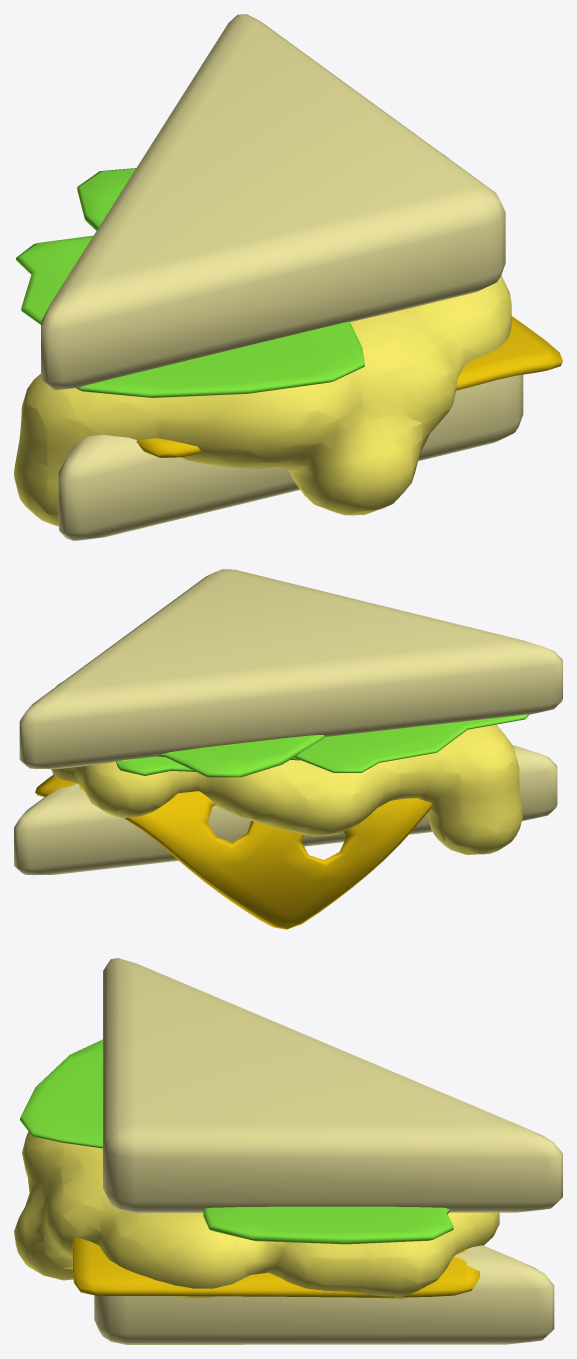
The model's file is Chanwis.fbx.
3 views of the same model, one above another, from view 1: azimuth 30°, elevation 25°; view 2: azimuth 150°, elevation 25°; view 3: azimuth 270°, elevation 25° (orthographic). The views are drawn at different scales.
Parts seen in each view (by area): view 1: Cube, Mball.020, Cube.001, Plane.003, Plane, Plane.001; view 2: Cube, Mball.020, Plane, Cube.001, Plane.003, Plane.001, Plane.002; view 3: Cube, Mball.020, Cube.001, Plane.001, Plane, Plane.003.
Boxes of the visible parts, x1,y1,x2,y2 form: Cube: (41,14,505,389); Mball.020: (14,275,511,526); Cube.001: (58,374,523,540); Plane.003: (16,235,364,397); Plane: (136,316,562,457); Plane.001: (77,154,446,230); Cube: (19,569,562,768); Mball.020: (51,724,522,854); Plane: (35,774,431,929); Cube.001: (14,745,557,875); Plane.003: (294,714,528,772); Plane.001: (56,682,325,777); Plane.002: (116,756,300,775); Cube: (103,958,562,1212); Mball.020: (14,1131,499,1299); Cube.001: (94,1245,554,1344); Plane.001: (203,1206,453,1244); Plane: (72,1237,479,1297); Plane.003: (20,1039,102,1148).
Bounding box in the file's own units: 334 × 208 × 347.
